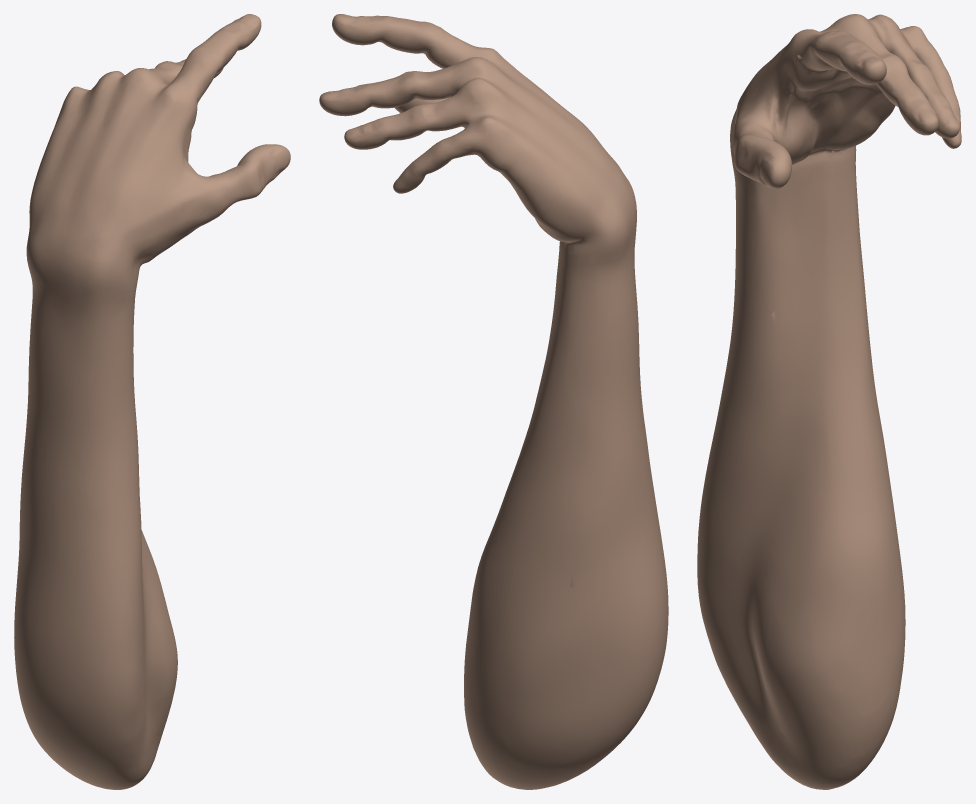
File: touch.fbx
3 renders of one model, left to right at view 1: azimuth 30°, elevation 25°; view 2: azimuth 150°, elevation 25°; view 3: azimuth 270°, elevation 25°, orthographic. The views are drawn at different scales.
Parts seen in each view (by area): view 1: Cube.002; view 2: Cube.002; view 3: Cube.002.
Part boxes in pixels (x1,y1,x2,y2): Cube.002: [14, 14, 290, 789]; Cube.002: [319, 14, 668, 789]; Cube.002: [697, 14, 961, 789].
Bounding box in the file's own units: 340 × 851 × 252.
